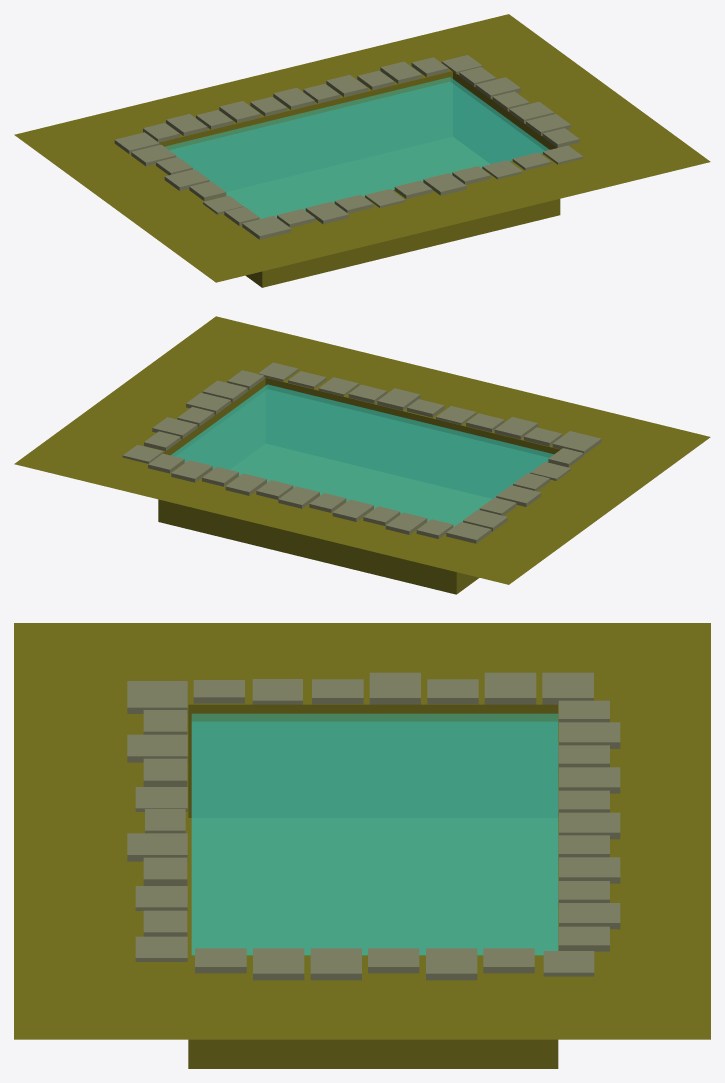
File: swimming-pool.FBX
3 views of the same model, one above another, from view 1: azimuth 30°, elevation 25°; view 2: azimuth 150°, elevation 25°; view 3: azimuth 270°, elevation 25° (orthographic). The views are drawn at different scales.
Parts seen in each view (by area): view 1: Box1402, Box1403, Box1404, Box1410, Box1406, Box1418, Box1429, Box1420, Box1423, Box1427, Box1431, Box1435 (+25 smaller); view 2: Box1402, Box1403, Box1404, Box1421, Box1410, Box1406, Box1418, Box1423, Box1427, Box1425, Box1431, Box1435 (+23 smaller); view 3: Box1402, Box1403, Box1404, Box1420, Box1418, Box1435, Box1436, Box1438, Box1406, Box1410, Box1421, Box1427 (+26 smaller).
Boxes of the visible parts, box(x1,y1,x2,y2) form: Box1402: box(14, 14, 710, 287); Box1403: box(165, 77, 549, 218); Box1404: box(242, 216, 291, 239); Box1410: box(423, 173, 466, 195); Box1406: box(305, 201, 348, 224); Box1418: box(164, 169, 209, 190); Box1429: box(326, 75, 367, 96); Box1420: box(131, 144, 176, 166); Box1423: box(166, 114, 207, 136); Box1427: box(273, 87, 314, 109); Box1431: box(380, 61, 421, 83); Box1435: box(475, 77, 520, 98); Box1402: box(14, 316, 710, 594); Box1403: box(171, 384, 553, 526); Box1404: box(552, 431, 601, 454); Box1421: box(446, 522, 491, 543); Box1410: box(377, 388, 420, 410); Box1406: box(494, 417, 537, 439); Box1418: box(496, 485, 541, 506); Box1423: box(385, 512, 427, 534); Box1427: box(278, 486, 319, 508); Box1425: box(332, 499, 373, 521); Box1431: box(171, 460, 212, 482); Box1435: box(152, 417, 197, 438); Box1402: box(14, 623, 710, 1068); Box1403: box(191, 713, 558, 955); Box1404: box(127, 681, 187, 713); Box1420: box(484, 672, 536, 704); Box1418: box(369, 672, 420, 704); Box1435: box(426, 948, 477, 980); Box1436: box(310, 948, 361, 980); Box1438: box(253, 948, 304, 980); Box1406: box(127, 734, 187, 762); Box1410: box(127, 833, 187, 861); Box1421: box(542, 672, 593, 704); Box1427: box(559, 812, 620, 839).
Bounding box in the file's own units: 81.69 × 10.97 × 57.76.
